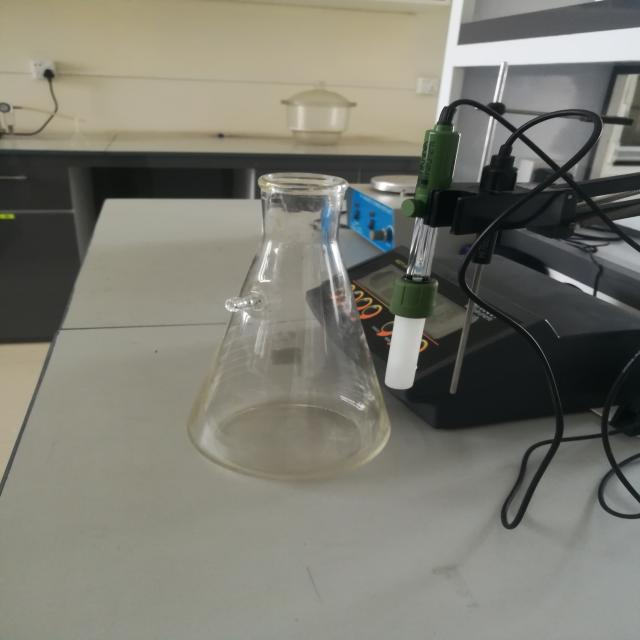Conical_Flask: (115, 129, 428, 532)
